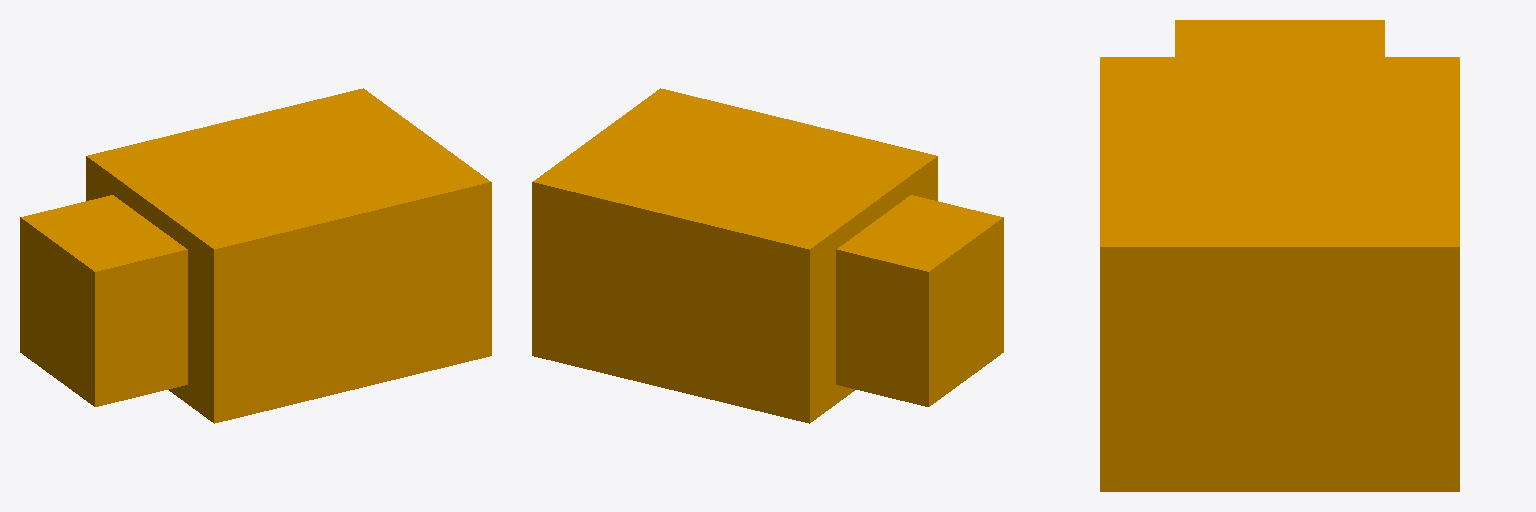
robot.urdf — euro:
<?xml version="1.0"?>
<robot name="euro">
  <link name="euro">
    <visual><geometry><mesh filename="euro_visual.obj"/></geometry></visual>
    <collision><geometry><mesh filename="euro_hull.obj"/></geometry></collision>
  </link>
</robot>

--- Render facts (derived) ---
Views: 3 orthographic renders of the robot side by side, from view 1: azimuth 30°, elevation 25°; view 2: azimuth 150°, elevation 25°; view 3: azimuth 270°, elevation 25°.
Robot: euro — 1 links, 0 joints (none); root link euro; default pose: all joints at 0.
Links seen in each view (by area): view 1: euro; view 2: euro; view 3: euro.
Link boxes in pixels (x1=…): euro: x1=20, y1=88, x2=491, y2=423; euro: x1=532, y1=88, x2=1003, y2=423; euro: x1=1100, y1=20, x2=1459, y2=491.
Size in the robot's own frame: 0.04 by 0.024 by 0.018 metres.
Meshes: 1 distinct files referenced, 1 mesh visuals loaded (1 OBJ).
